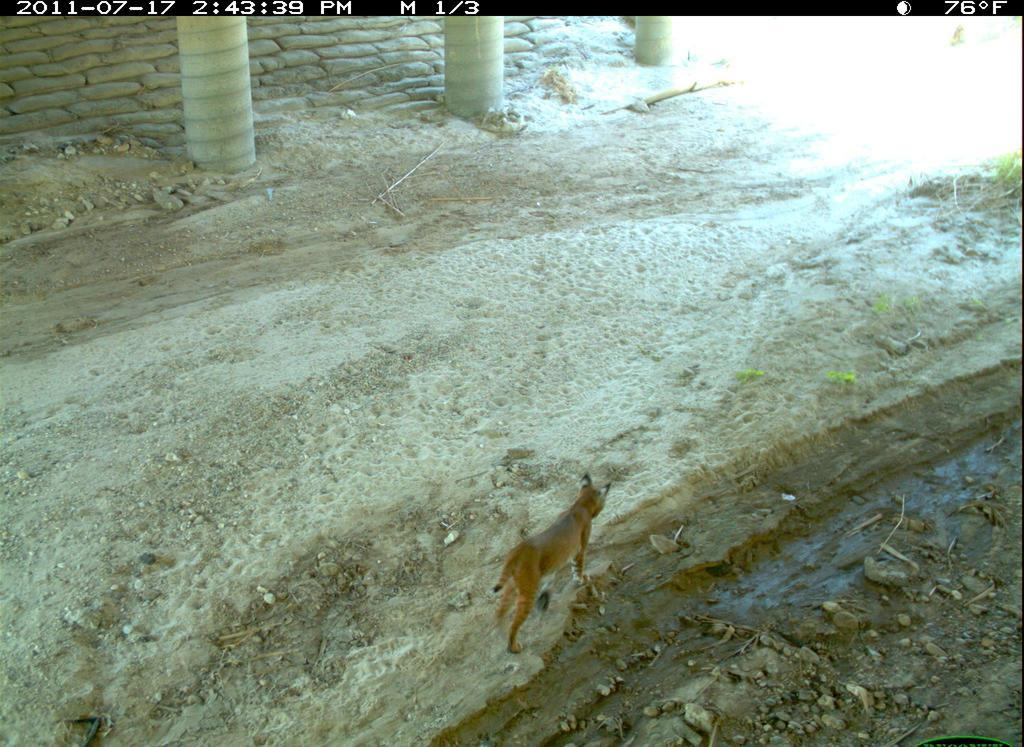bobcat: (489, 470, 616, 658)
